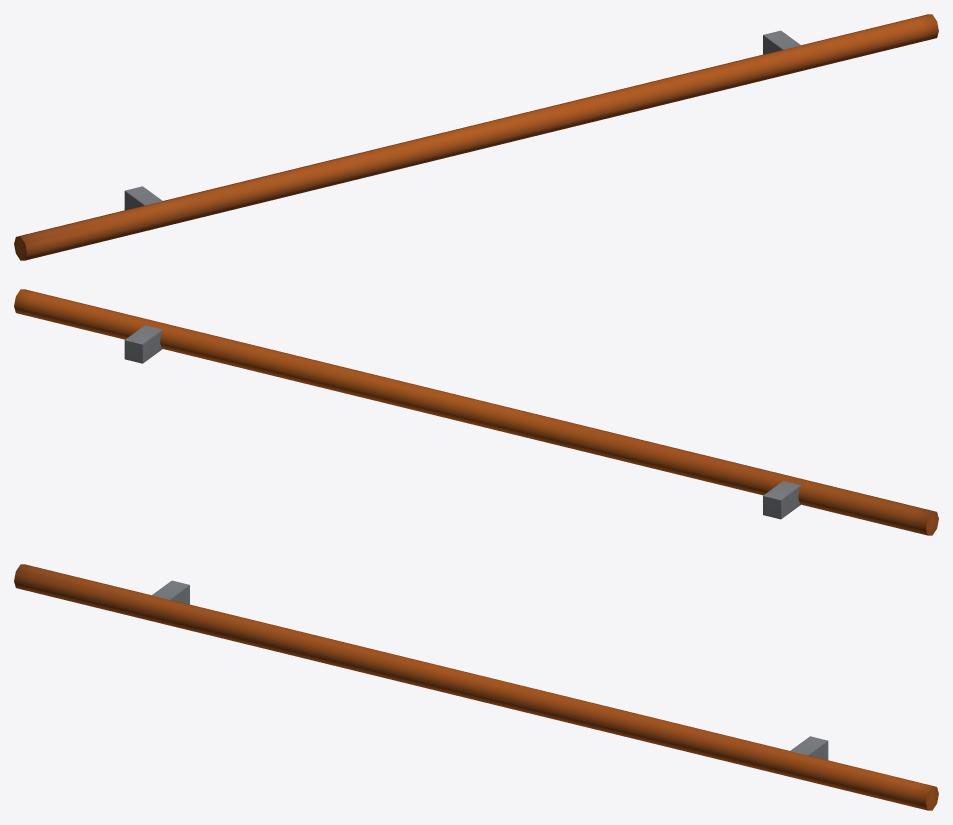
The model's file is handrail.fbx.
3 views of the same model, one above another, from view 1: azimuth 30°, elevation 25°; view 2: azimuth 150°, elevation 25°; view 3: azimuth 330°, elevation 25° (orthographic).
Visible parts, largest first — view 1: handrail; view 2: handrail; view 3: handrail.
Part boxes in pixels (<box>): handrail: <box>14,14,938,260</box>; handrail: <box>14,289,938,535</box>; handrail: <box>14,564,938,810</box>.
Size of the model in its own units: 2 by 0.05 by 0.115.
